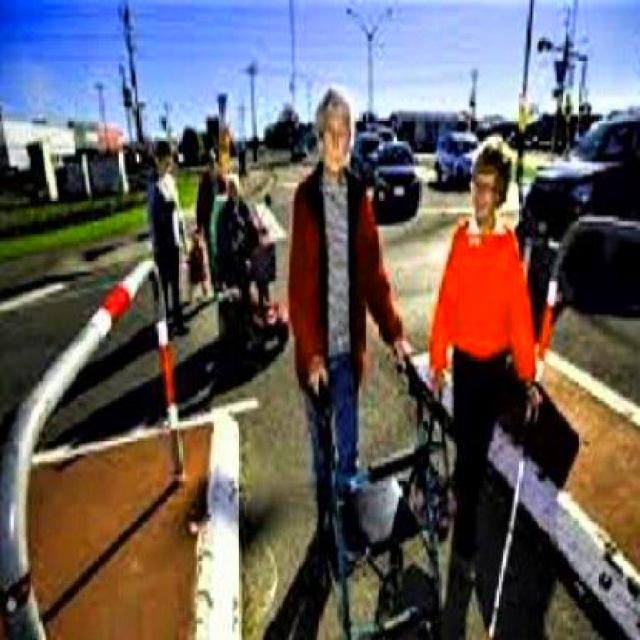Person: (283, 82, 414, 562), (433, 133, 541, 567), (142, 130, 184, 332)
